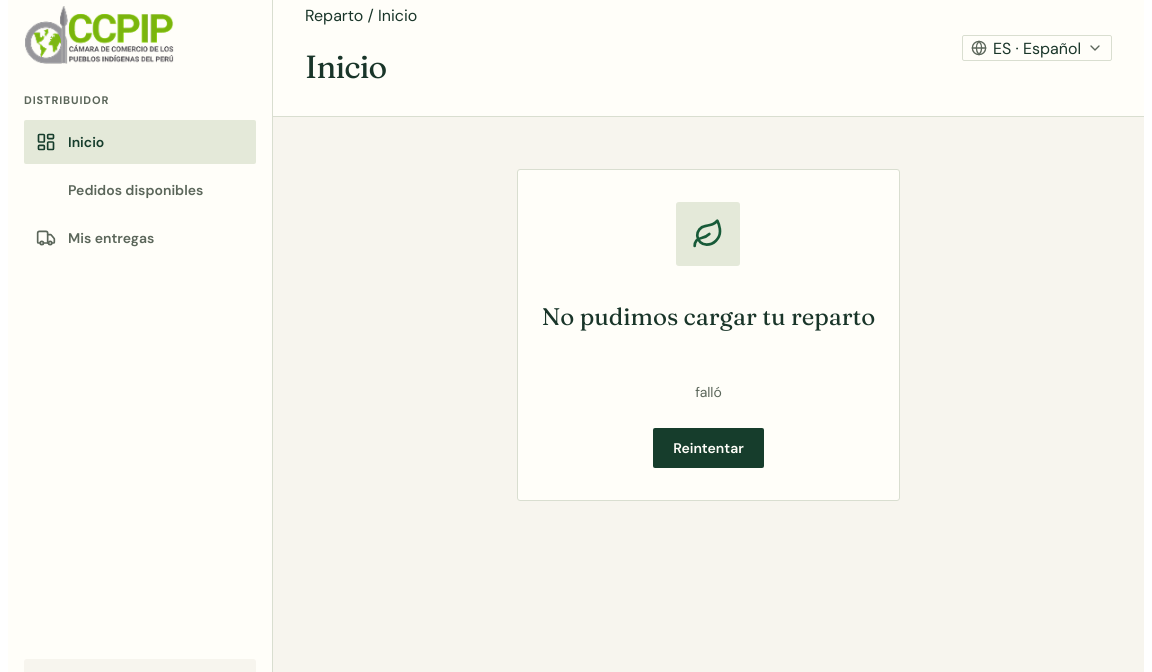
Scenario: CCPIP-500 Inicio del distribuidor › si no carga, lo dice y deja reintentar
Expected: the text "No pudimos cargar tu reparto" is shown, top-left (542, 302), bottom-right (875, 332)
Click the button "Reintentar".
click(709, 448)  # box top-left (653, 428), bottom-right (764, 468)
(page scrolled)
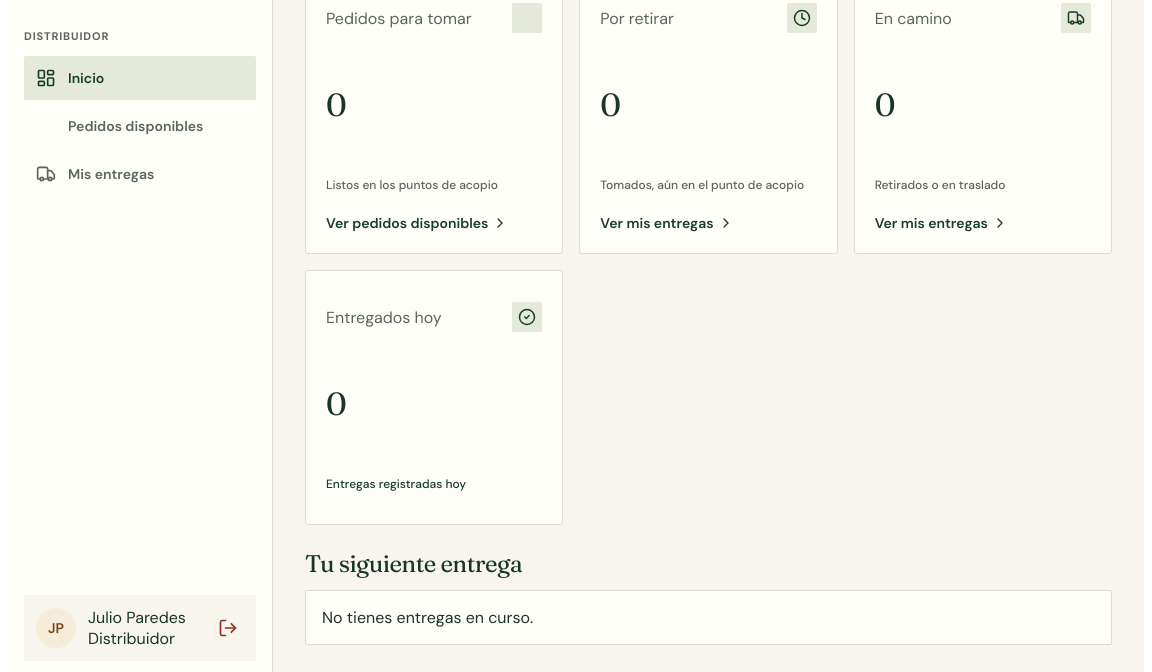
Now the text "No tienes entregas en curso." is shown, box top-left (322, 607), bottom-right (533, 628)
